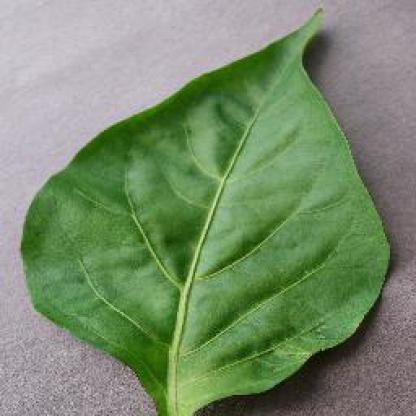good leaf: (29, 5, 398, 414)
